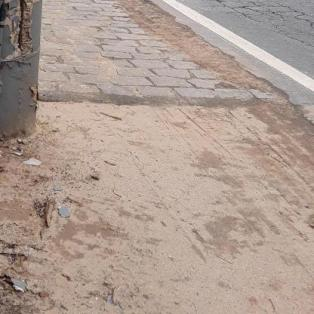Poste: (0, 0, 58, 135)
